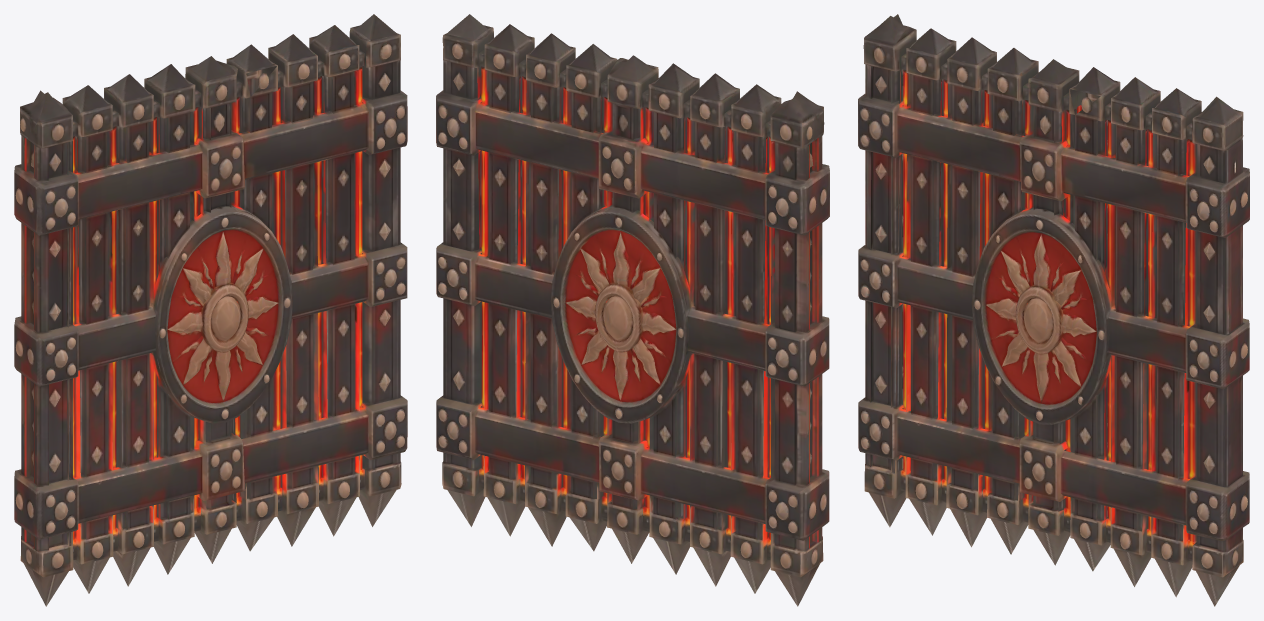
The model's file is SM_Tripo_InfernoMoltenGate.glb.
3 views of the same model, side by side, from view 1: azimuth 30°, elevation 25°; view 2: azimuth 150°, elevation 25°; view 3: azimuth 330°, elevation 25° (orthographic).
Visible parts, largest first — view 1: SM_Tripo_InfernoMoltenGate_LOD0; view 2: SM_Tripo_InfernoMoltenGate_LOD0; view 3: SM_Tripo_InfernoMoltenGate_LOD0.
Boxes of the visible parts, left/top/right/bottom form: SM_Tripo_InfernoMoltenGate_LOD0: left=14, top=14, right=407, bottom=606; SM_Tripo_InfernoMoltenGate_LOD0: left=436, top=14, right=829, bottom=606; SM_Tripo_InfernoMoltenGate_LOD0: left=858, top=14, right=1249, bottom=606.
Bounding box in the file's own units: 6.83 × 9 × 1.33.
Materials: 1 (1 with a texture image).
